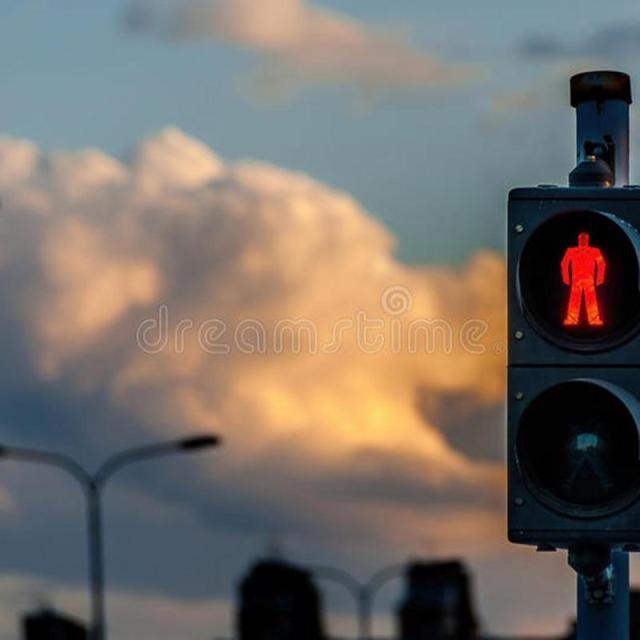red-crossing: (514, 204, 634, 352)
